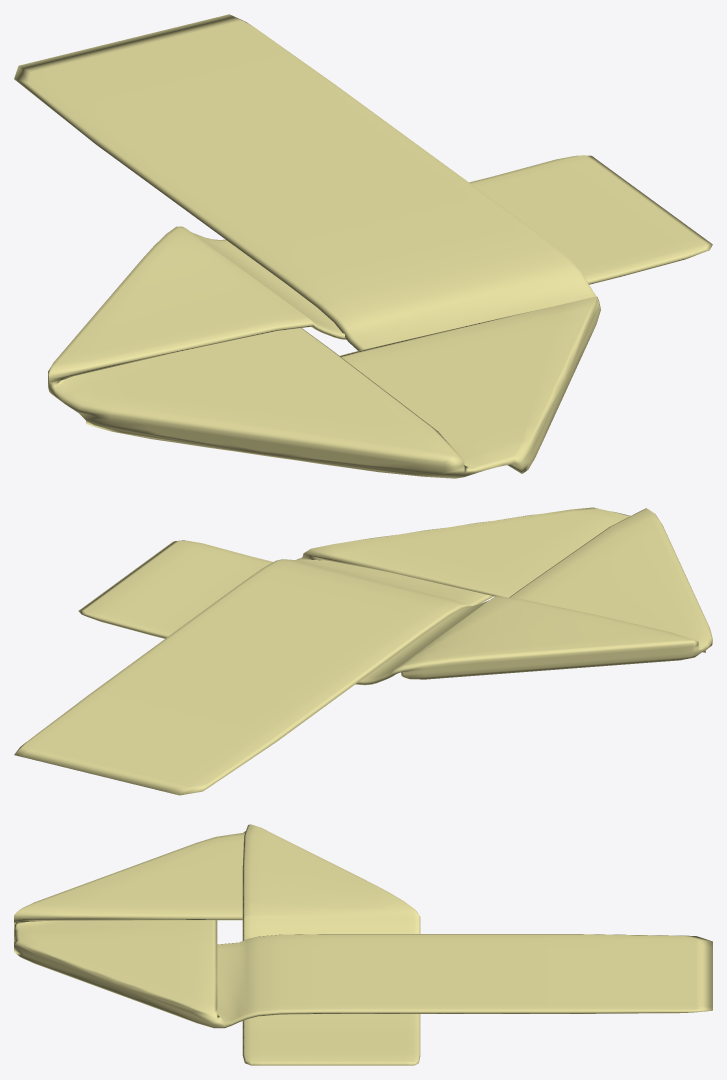
Rendered from note_yellow_folded.fbx.
3 views of the same model, one above another, from view 1: azimuth 30°, elevation 25°; view 2: azimuth 150°, elevation 25°; view 3: azimuth 270°, elevation 25° (orthographic). The views are drawn at different scales.
Visible parts, largest first — view 1: yellow_folded_paper; view 2: yellow_folded_paper; view 3: yellow_folded_paper.
Boxes of the visible parts, <box> form: yellow_folded_paper: <box>14,14,712,478</box>; yellow_folded_paper: <box>14,507,712,795</box>; yellow_folded_paper: <box>14,824,712,1065</box>.
Bounding box in the file's own units: 20.56 × 1.52 × 27.78.
